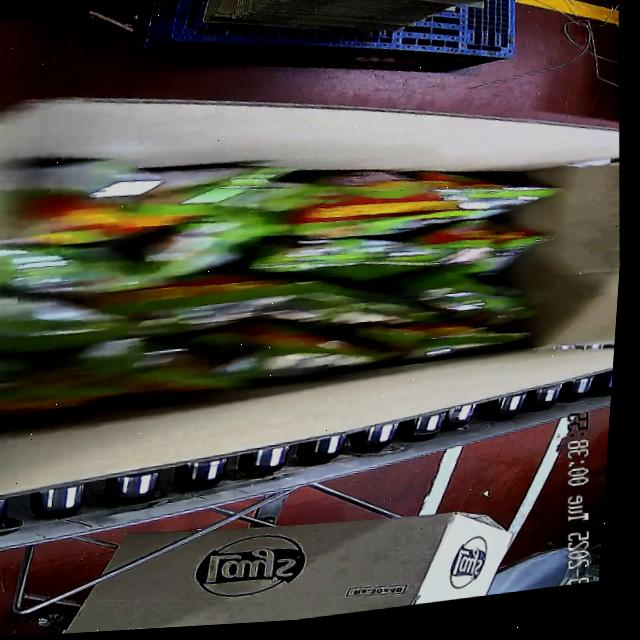YOGURT_HERB: (0, 98, 579, 423)
